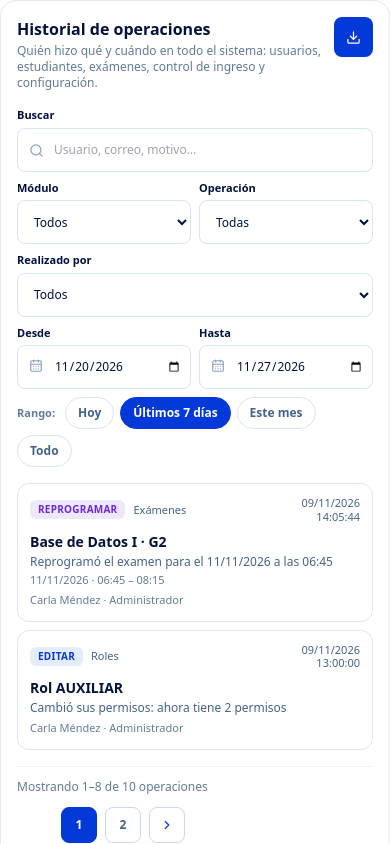
Test case: Historial de operaciones del ADMIN › en celular el detalle se abre como hoja al tocar una operación y se cierra
The width and height of the screenshot is (390, 844).
expect the text "Mostrando 1–8 de 10 operaciones" is shown: met, box [17,778,208,794]
Click the button "Base de Datos I · G2".
click(195, 552)  # box [17,483,373,622]
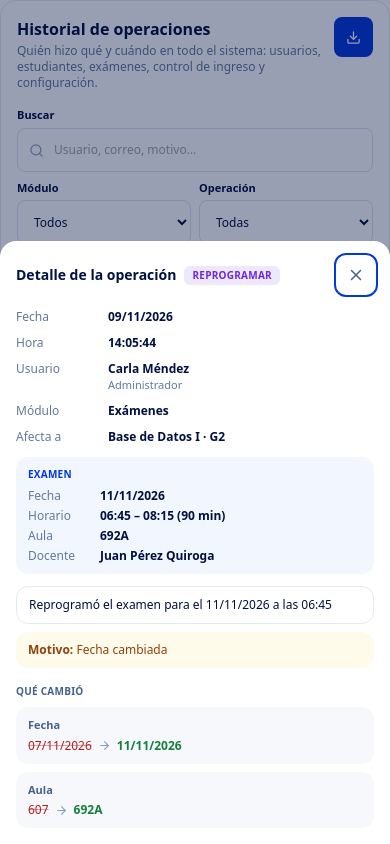
expect the text "Fecha cambiada" is shown: met, box [76,641,168,658]
Click the button named "Cerrar el detalle".
click(356, 275)  # box [338,257,374,293]
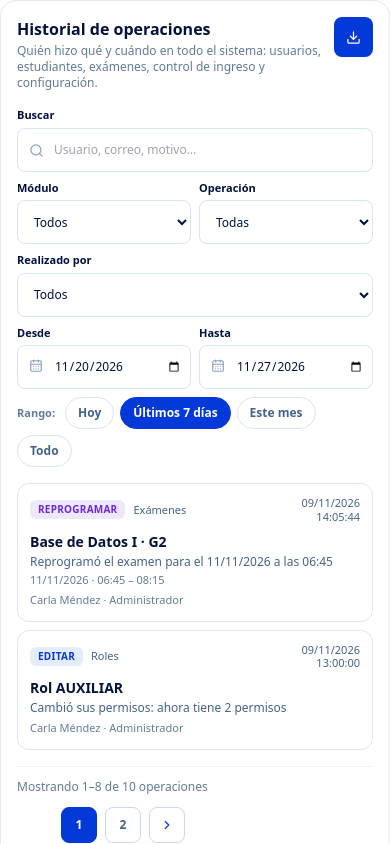
expect the dialog is gone: met
